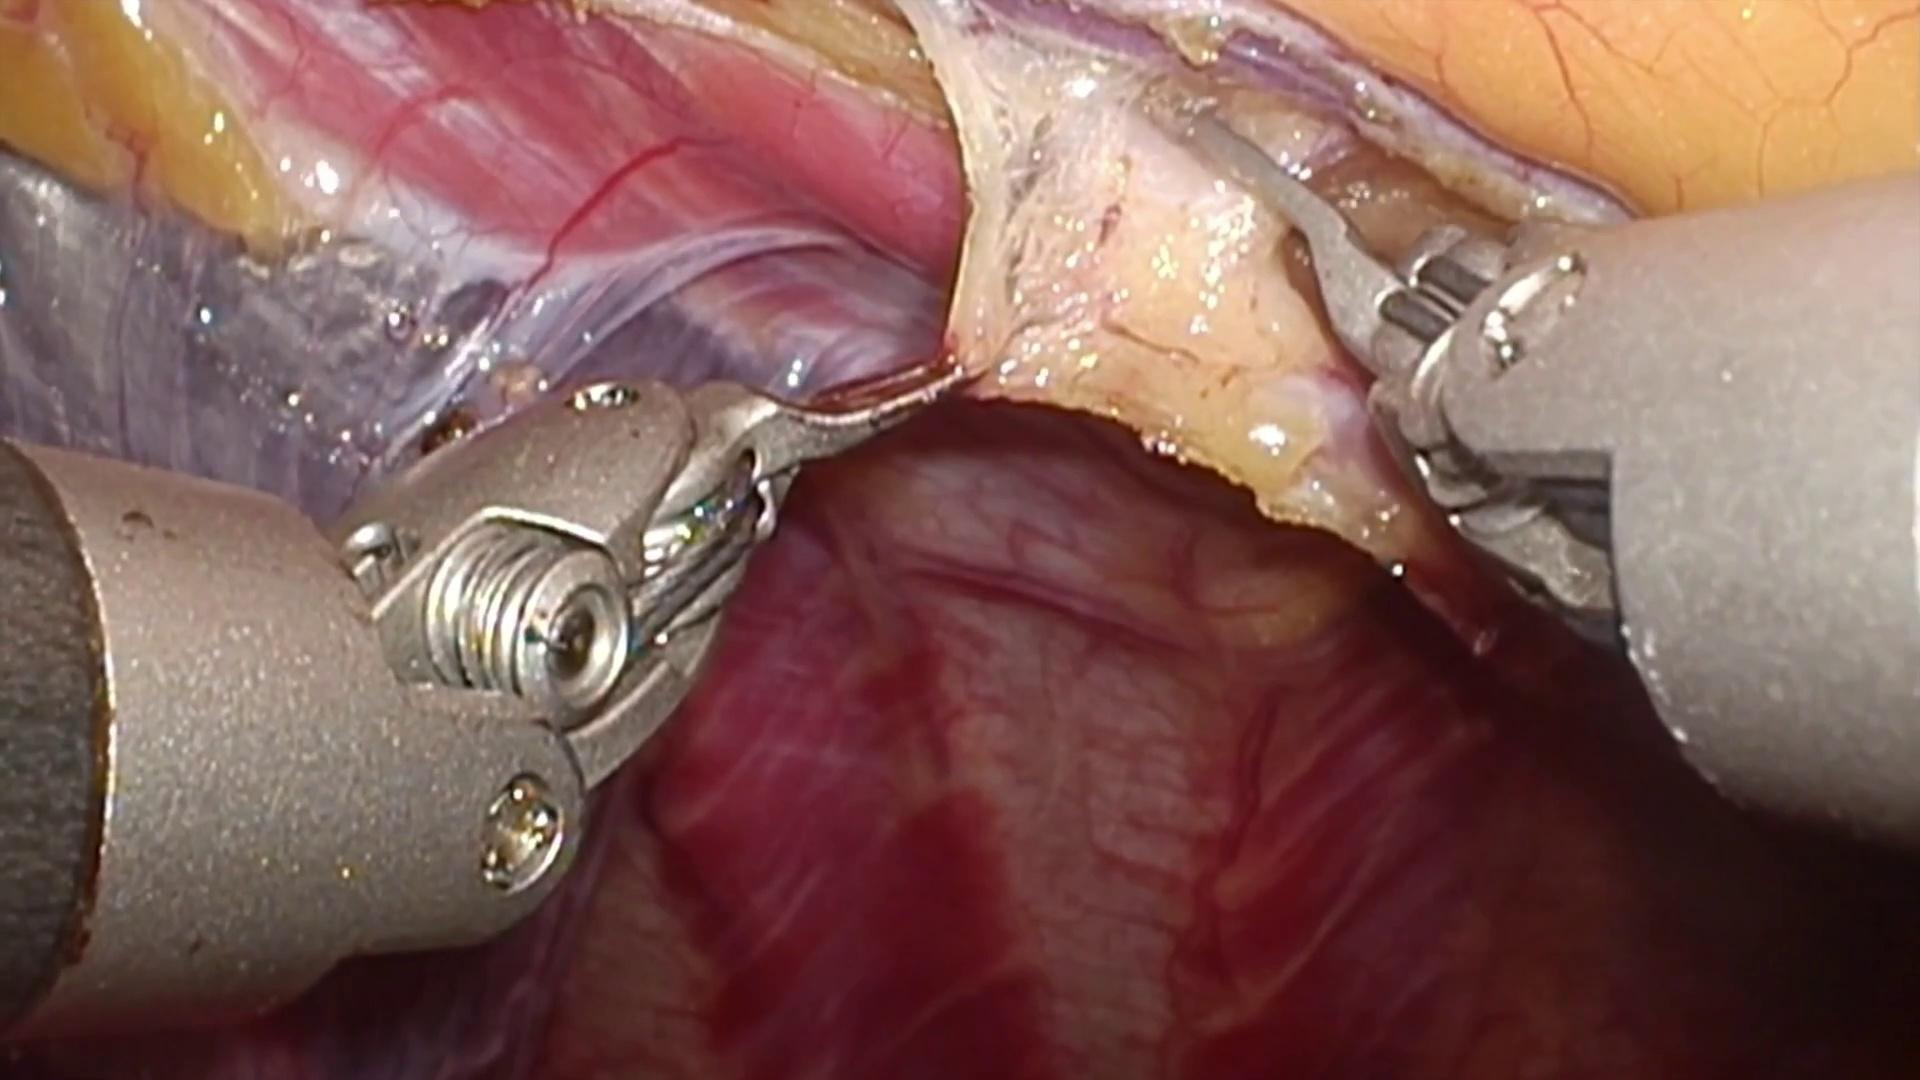Debakey: (688, 352, 971, 501)
clipper: (1160, 100, 1615, 600)
